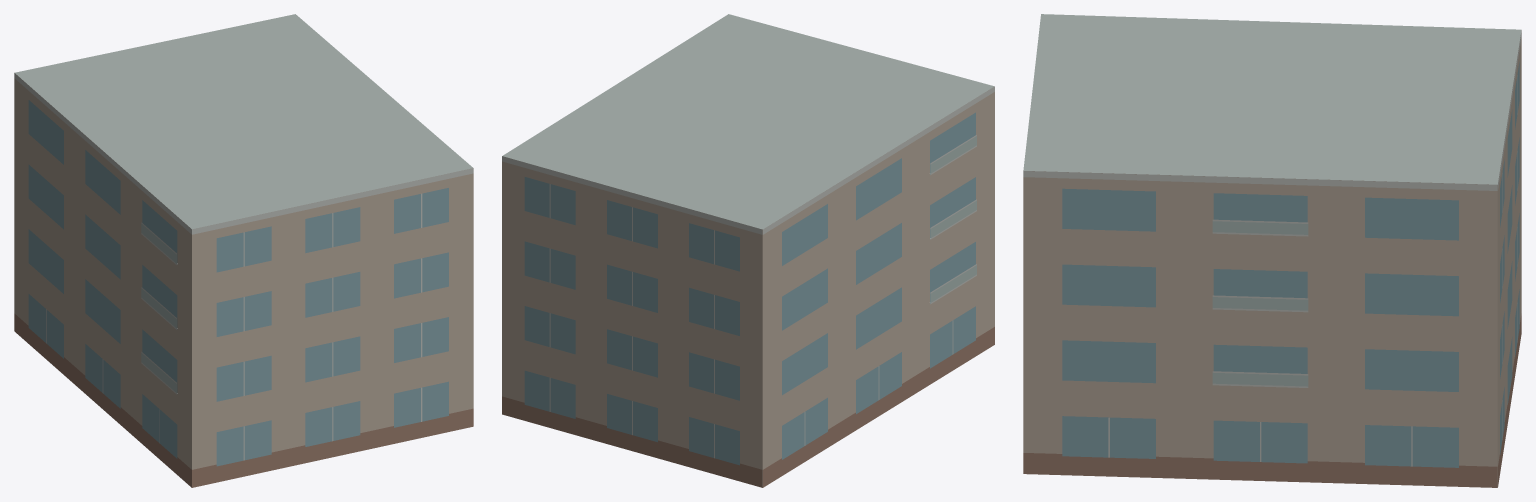
The model's file is survey-upis-32988420.glb.
The picture shows the model from 3 angles, left to right: view 1: azimuth 30°, elevation 25°; view 2: azimuth 150°, elevation 25°; view 3: azimuth 270°, elevation 25°; orthographic projection. The views are drawn at different scales.
Visible parts, largest first — view 1: survey-upis-32988420.tmp; view 2: survey-upis-32988420.tmp; view 3: survey-upis-32988420.tmp.
Part boxes in pixels (x1,y1,x2,y2): survey-upis-32988420.tmp: [14, 14, 473, 487]; survey-upis-32988420.tmp: [502, 14, 994, 487]; survey-upis-32988420.tmp: [1023, 14, 1521, 487].
Size of the model in its own units: 14.05 by 11.63 by 17.33.
